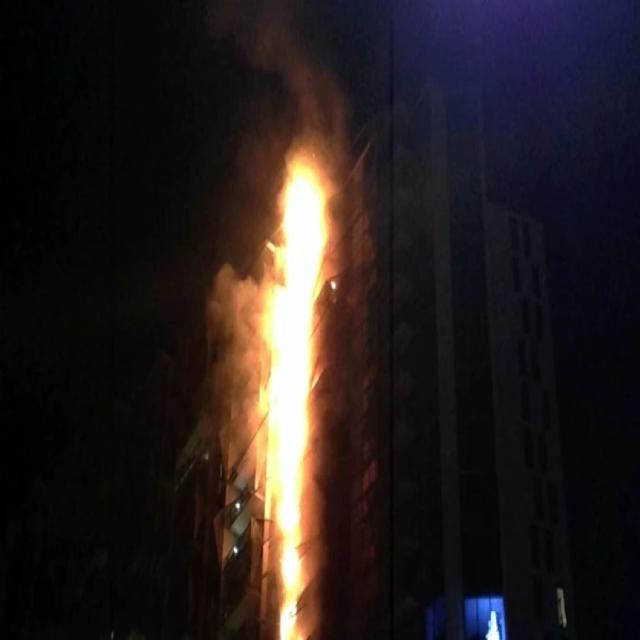Fire: (245, 141, 338, 636)
